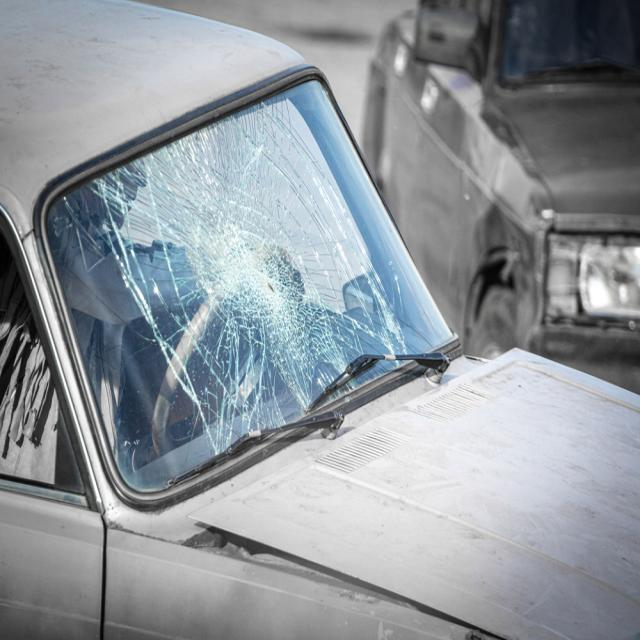glass shatter: (43, 79, 458, 493)
